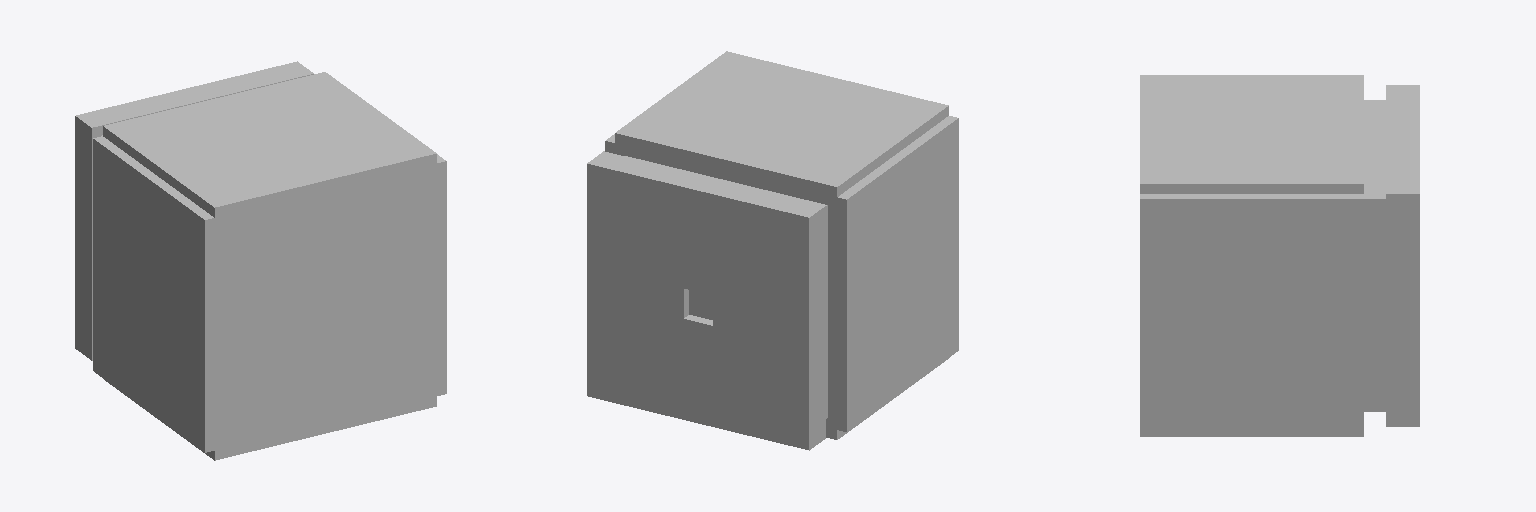
Rendered from poweredPiston.obj.
3 views of the same model, side by side, from view 1: azimuth 30°, elevation 25°; view 2: azimuth 150°, elevation 25°; view 3: azimuth 270°, elevation 25° (orthographic).
Size of the model in its own units: 1 by 1 by 1.